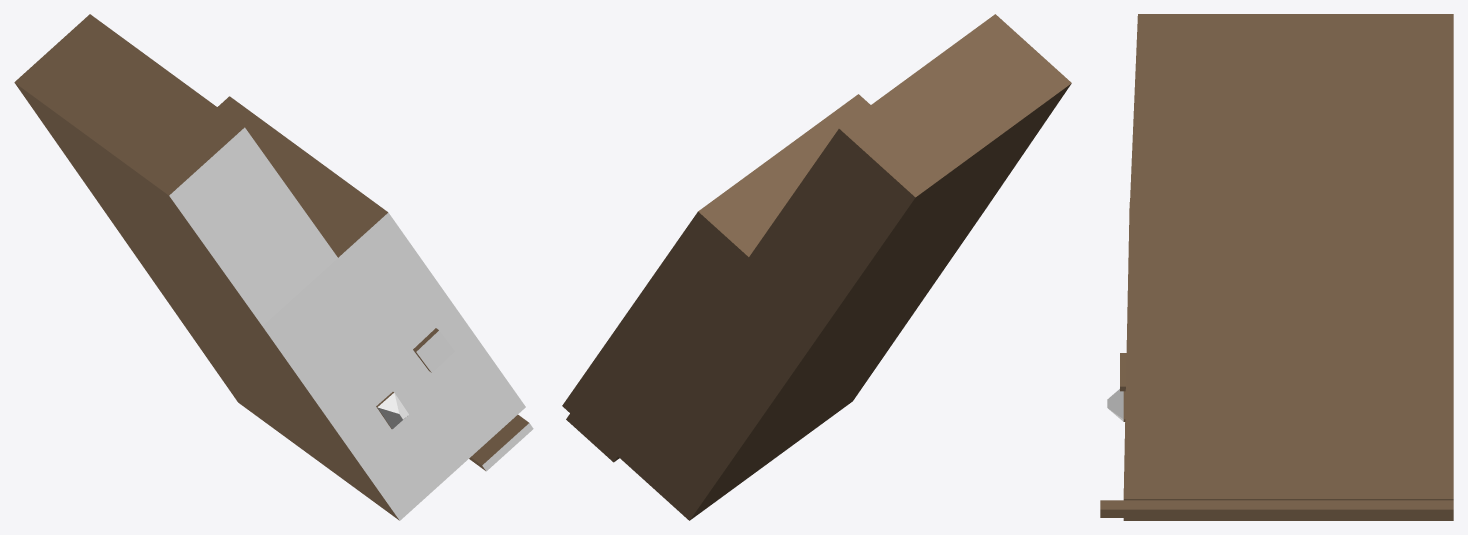
3 renders of one model, left to right at view 1: azimuth 30°, elevation 25°; view 2: azimuth 150°, elevation 25°; view 3: azimuth 270°, elevation 25°, orthographic. The views are drawn at different scales.
Parts seen in each view (by area): view 1: City_PC-01194; view 2: City_PC-01194; view 3: City_PC-01194.
Boxes of the visible parts, x1=… form: City_PC-01194: x1=14, y1=14, x2=533, y2=520; City_PC-01194: x1=562, y1=14, x2=1071, y2=520; City_PC-01194: x1=1100, y1=14, x2=1453, y2=520.
Size of the model in its own units: 1840 by 2133 by 1578.
